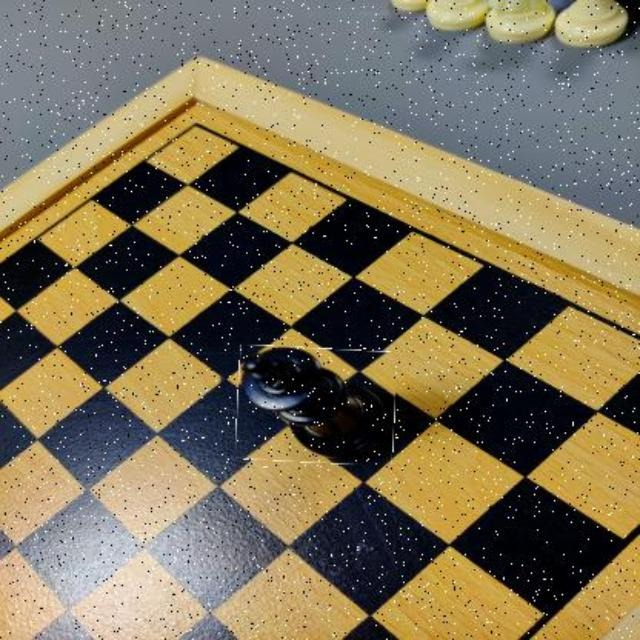black-king: (238, 347, 396, 465)
